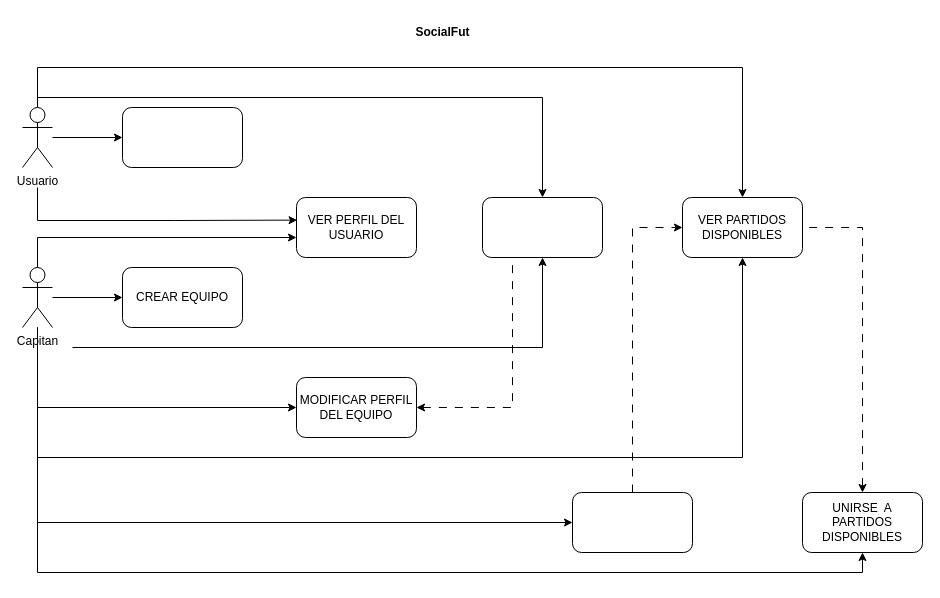
The diagram is 940 pixels wide and 598 high, and some of its shapes have lost their labels. Here are the shapes that lost their labels. From the top down, the box of each, then its label:
(122, 106, 242, 168): UNIRSE A EQUIPO
(482, 196, 602, 258): VER PERFIL DEL EQUIPO
(572, 492, 692, 552): CREACIÓN DE PARTIDOS
